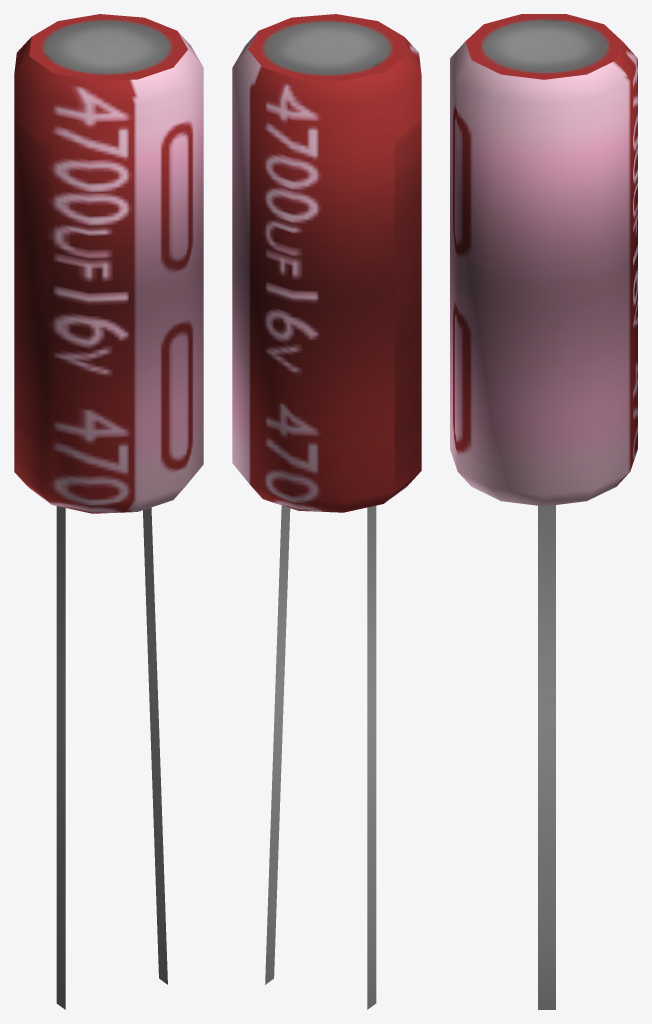
File: red_capacitor.FBX
The picture shows the model from 3 angles, left to right: view 1: azimuth 30°, elevation 25°; view 2: azimuth 150°, elevation 25°; view 3: azimuth 270°, elevation 25°; orthographic projection.
Parts seen in each view (by area): view 1: red_capacitor; view 2: red_capacitor; view 3: red_capacitor.
Boxes of the visible parts, x1,y1,x2,y2 form: red_capacitor: [14, 14, 203, 1009]; red_capacitor: [232, 14, 421, 1009]; red_capacitor: [450, 14, 637, 1009].
Size of the model in its own units: 4.42 by 24.55 by 4.47.
Materials: 1 (1 with a texture image).
